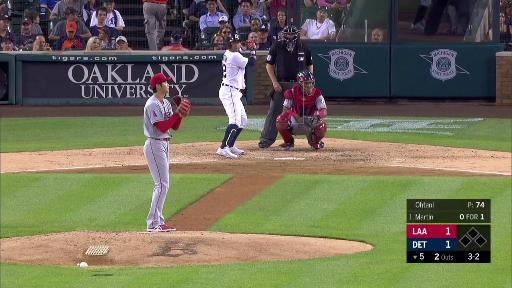pitcher: (143, 73, 191, 233)
